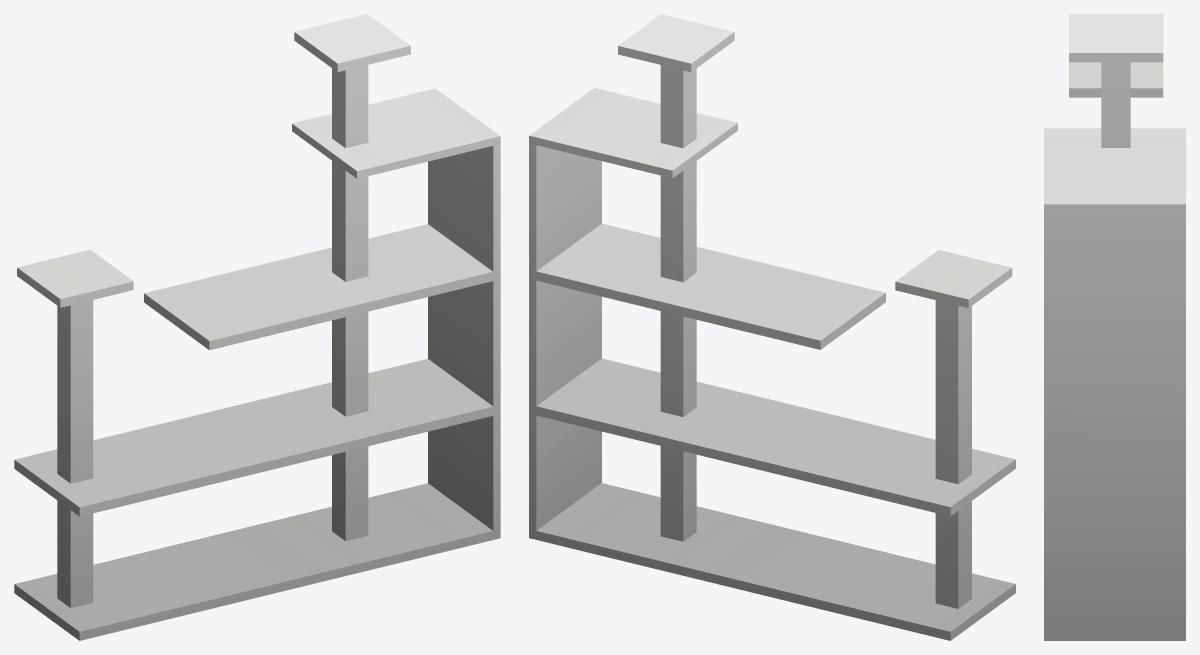
File: Shelving_3Tier_Stylised_White.fbx
The picture shows the model from 3 angles, left to right: view 1: azimuth 30°, elevation 25°; view 2: azimuth 150°, elevation 25°; view 3: azimuth 270°, elevation 25°; orthographic projection. The views are drawn at different scales.
Parts seen in each view (by area): view 1: Shelving_3Tier_Stylised_White; view 2: Shelving_3Tier_Stylised_White; view 3: Shelving_3Tier_Stylised_White.
Part boxes in pixels (box(x1,y1,x2,y2)): Shelving_3Tier_Stylised_White: box(14, 14, 500, 640); Shelving_3Tier_Stylised_White: box(529, 14, 1015, 640); Shelving_3Tier_Stylised_White: box(1044, 14, 1185, 640).
Size of the model in its own units: 134 by 150 by 35.28.
